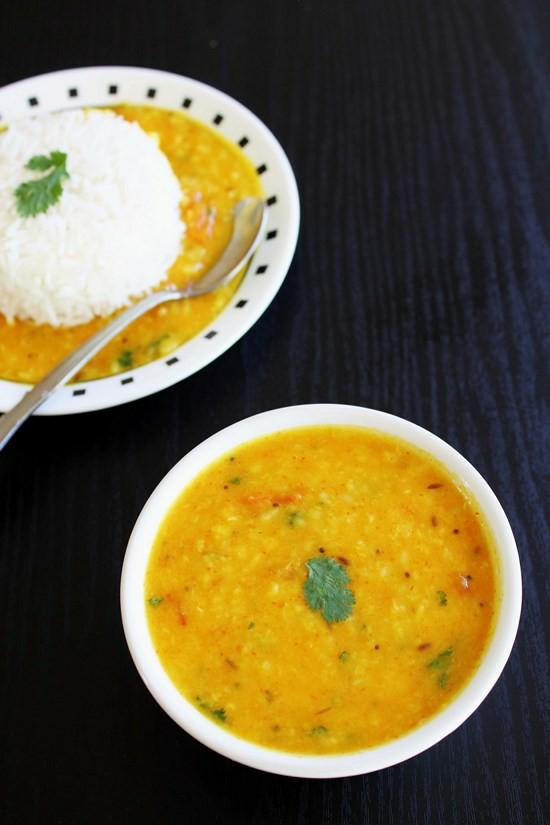Dal: (146, 427, 496, 751), (0, 104, 261, 383)
WhiteRice: (0, 107, 183, 330)
